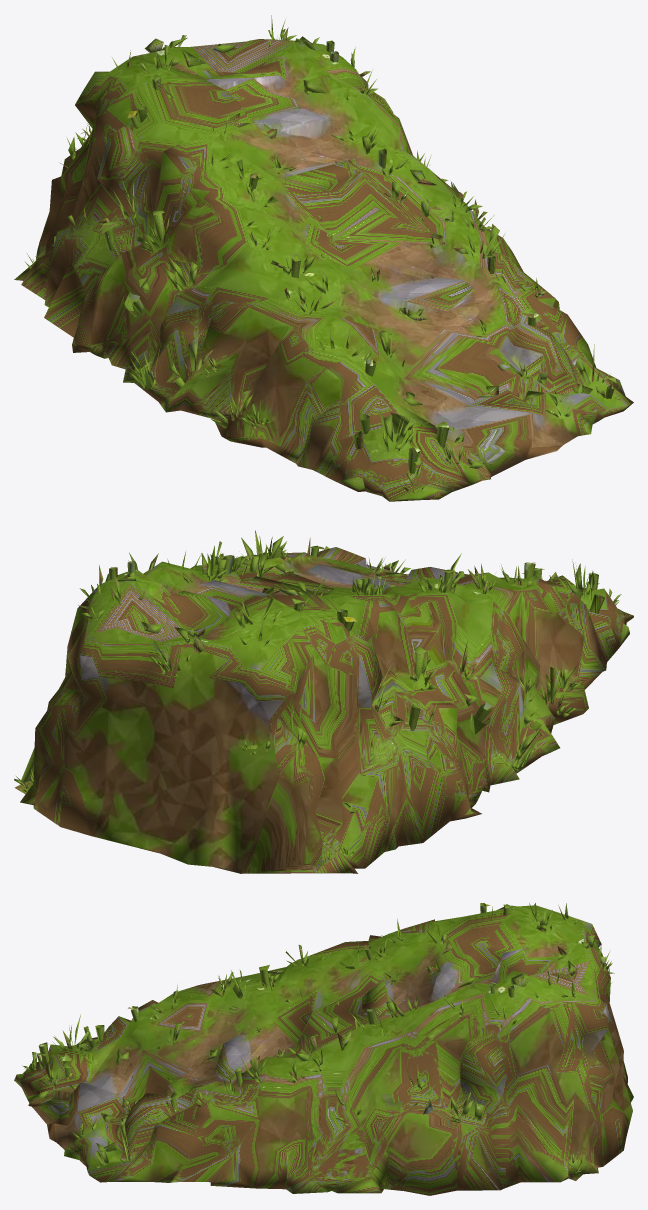
File: embankment.glb
3 views of the same model, one above another, from view 1: azimuth 30°, elevation 25°; view 2: azimuth 150°, elevation 25°; view 3: azimuth 270°, elevation 25° (orthographic). The views are drawn at different scales.
Size of the model in its own units: 0.6104 by 0.3194 by 0.9565.
1 material, 1 textured.
